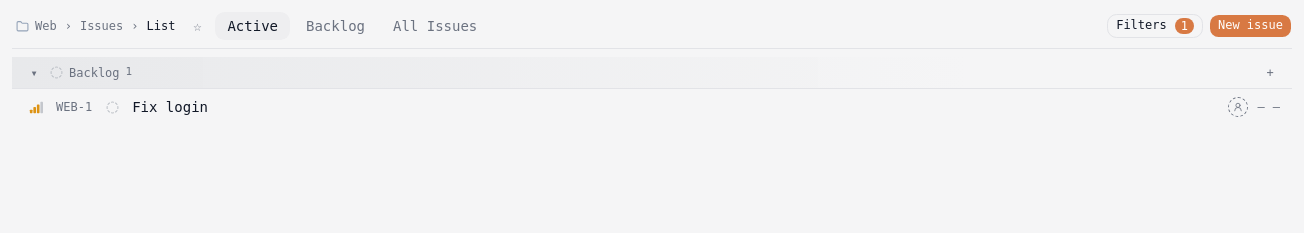
Test: project issues list view › completing with open subtasks shows the warning
Expected: the text "WEB-1" is shown, left=56, top=99, right=92, bottom=115
Click the button named "status for WEB-1" at (112, 107), box left=100, top=95, right=124, bottom=119
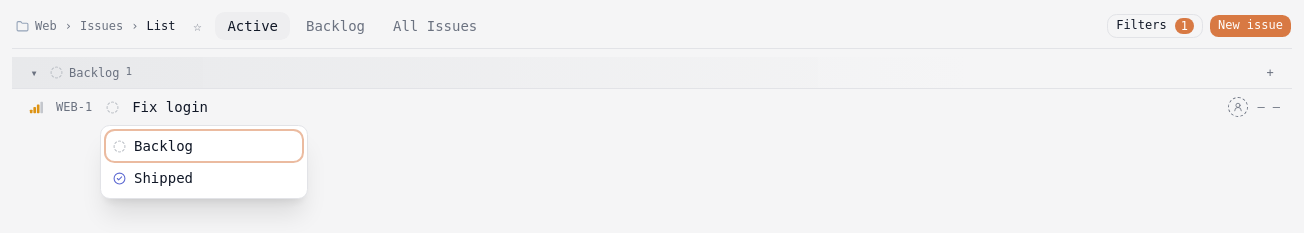
Click the menu item "Shipped" at (204, 178), box left=105, top=162, right=303, bottom=194
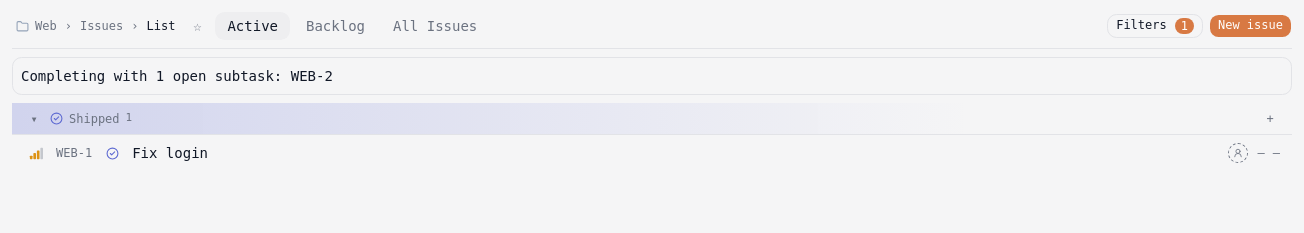
Now the message shows "open subtask", box left=21, top=68, right=333, bottom=84
